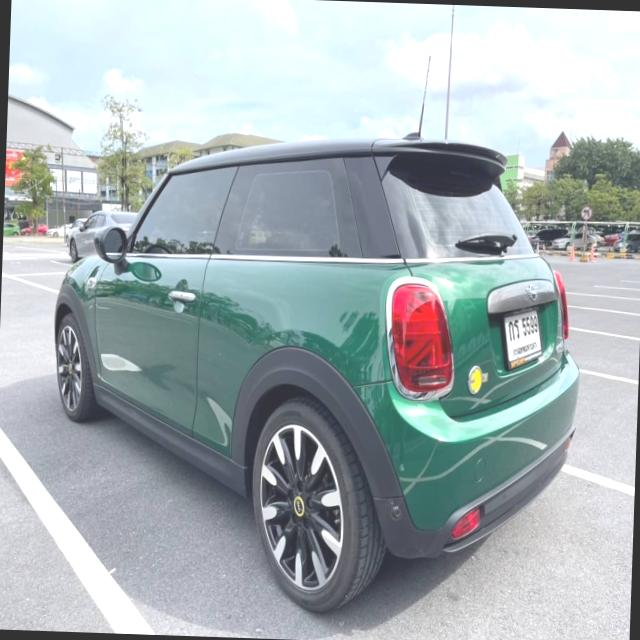license_plate: (499, 302, 545, 376)
